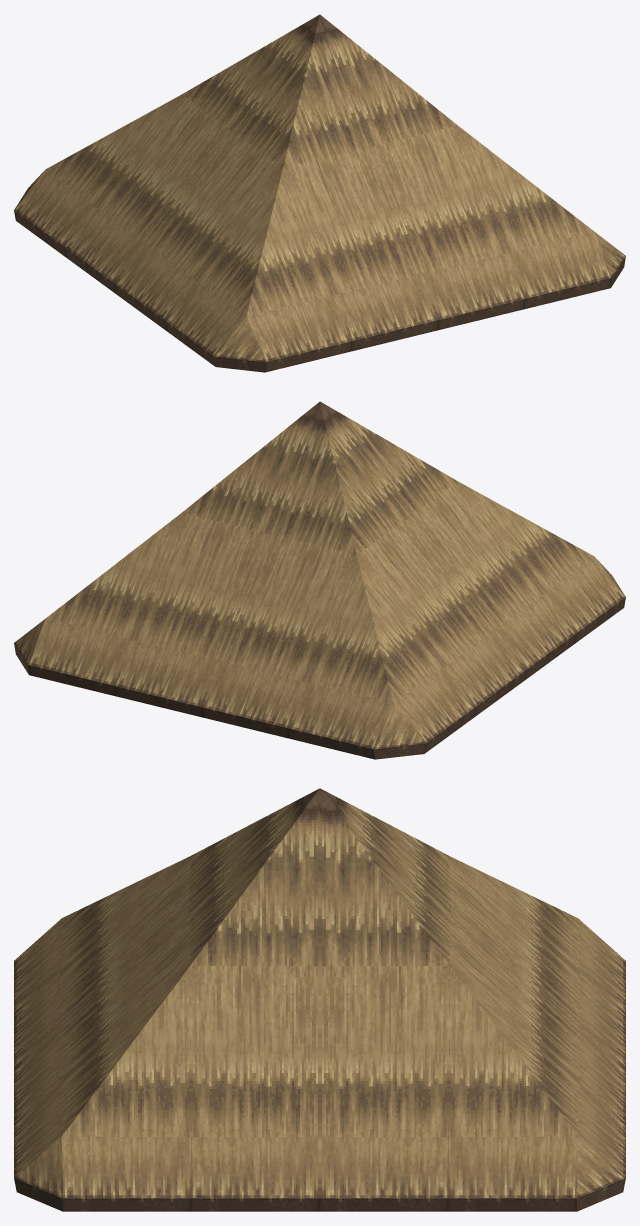
Rendered from roof_straw_square.glb.
The picture shows the model from 3 angles, top to bottom: view 1: azimuth 30°, elevation 25°; view 2: azimuth 150°, elevation 25°; view 3: azimuth 270°, elevation 25°; orthographic projection. The views are drawn at different scales.
Visible parts, largest first — view 1: roof_straw_square; view 2: roof_straw_square; view 3: roof_straw_square.
Boxes of the visible parts, x1,y1,x2,y2 form: roof_straw_square: (14,14,625,372); roof_straw_square: (14,401,625,759); roof_straw_square: (14,788,625,1211).
Bounding box in the file's own units: 4.76 × 2.54 × 4.76.
Materials: 1 (1 with a texture image).
